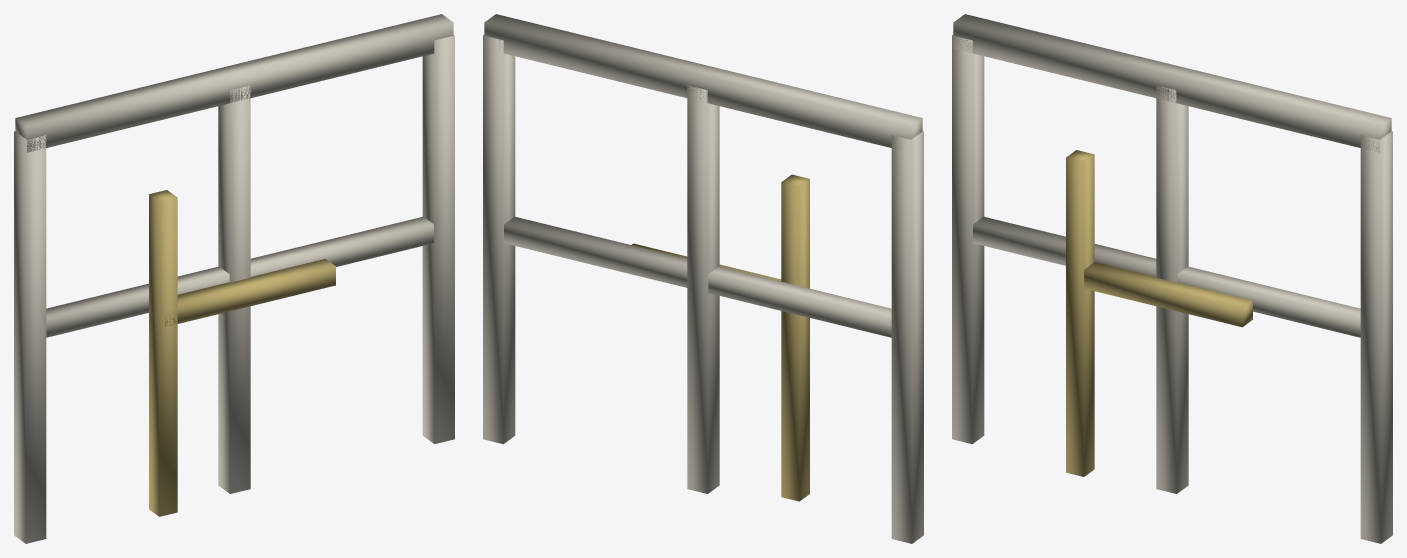
File: civic_gate_l90_h85.glb
3 views of the same model, side by side, from view 1: azimuth 30°, elevation 25°; view 2: azimuth 150°, elevation 25°; view 3: azimuth 330°, elevation 25° (orthographic).
Visible parts, largest first — view 1: world; view 2: world; view 3: world.
Part boxes in pixels (x1,y1,x2,y2): world: (14,14,454,543); world: (483,14,923,543); world: (952,14,1392,543).
Bounding box in the file's own units: 0.945 × 0.8775 × 0.0825.
